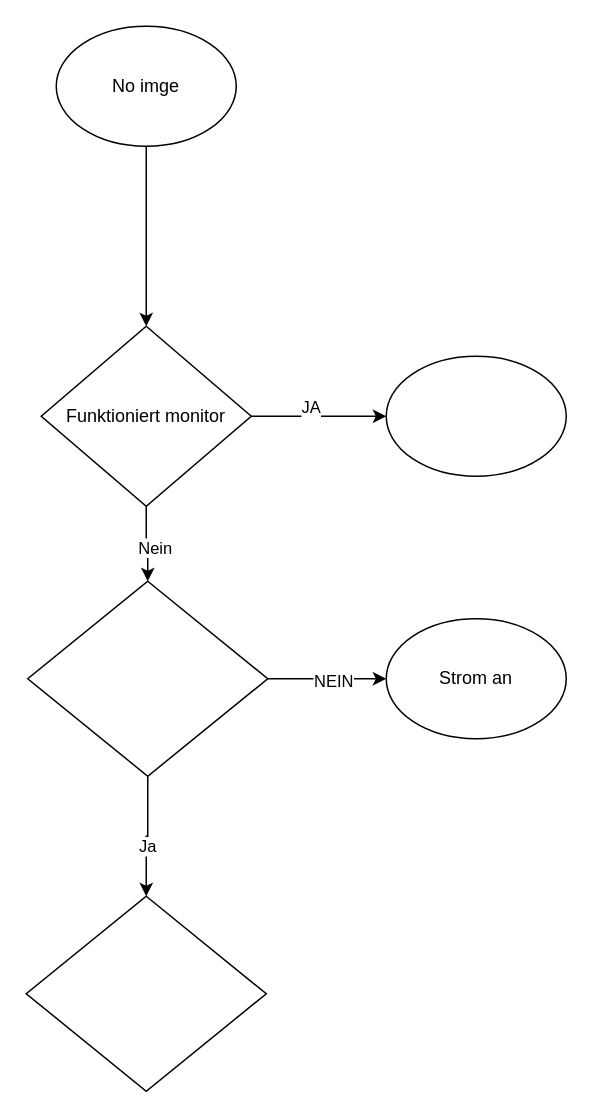
Some shapes in this 593 by 1118 pixel diagram are drawn without their labels. The centre of each missing label's shape, as x and y in pixels:
"Hat strom?" goes at point 147,678.
"Monitor Funktioniert" goes at point 475,415.
